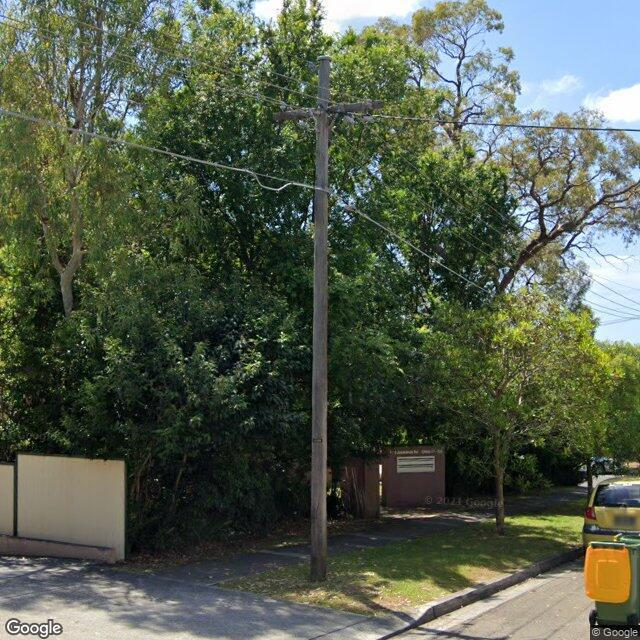crossarm: (272, 98, 387, 123)
timber-pole: (308, 56, 334, 584)
